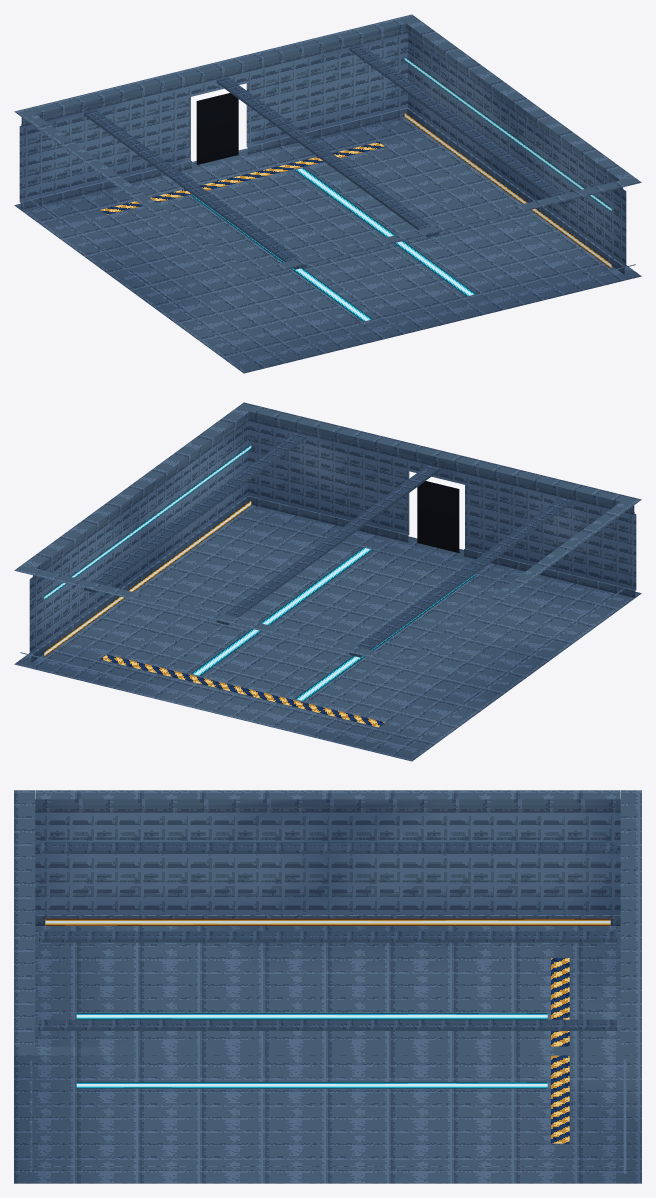
Rendered from cyroom.server__arena.glb.
3 views of the same model, one above another, from view 1: azimuth 30°, elevation 25°; view 2: azimuth 150°, elevation 25°; view 3: azimuth 270°, elevation 25° (orthographic). The views are drawn at different scales.
Visible parts, largest first — view 1: kit_shell_floor, kit_shell_walls, kit_shell_rig, kit_card_lights; view 2: kit_shell_floor, kit_shell_walls, kit_shell_rig, kit_card_lights; view 3: kit_shell_floor, kit_shell_walls, kit_shell_rig, kit_card_lights.
Boxes of the visible parts, x1=… form: kit_shell_floor: x1=14, y1=116, x2=641, y2=373; kit_shell_walls: x1=14, y1=14, x2=641, y2=361; kit_shell_rig: x1=84, y1=45, x2=571, y2=269; kit_card_lights: x1=191, y1=56, x2=611, y2=321; kit_shell_floor: x1=14, y1=504, x2=641, y2=761; kit_shell_walls: x1=14, y1=402, x2=641, y2=749; kit_shell_rig: x1=84, y1=433, x2=571, y2=657; kit_card_lights: x1=44, y1=444, x2=476, y2=701; kit_shell_floor: x1=14, y1=926, x2=641, y2=1183; kit_shell_walls: x1=14, y1=790, x2=641, y2=1173; kit_shell_rig: x1=39, y1=842, x2=616, y2=1030; kit_card_lights: x1=45, y1=842, x2=610, y2=1088.
Size of the model in its own units: 20 by 4.5 by 20.
Materials: 7 (7 with a texture image).
